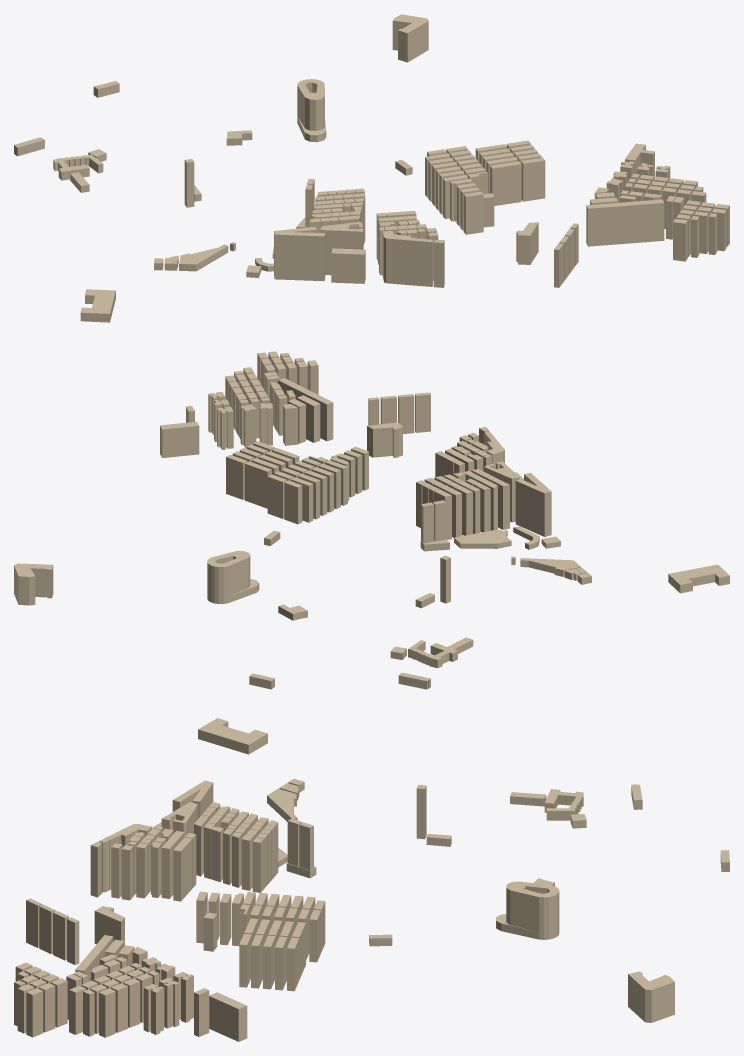
Rendered from -16_4-estimated-coarse.glb.
3 renders of one model, top to bottom at view 1: azimuth 30°, elevation 25°; view 2: azimuth 150°, elevation 25°; view 3: azimuth 270°, elevation 25°, orthographic. The views are drawn at different scales.
Bounding box in the file's own units: 1048 × 78 × 1009.
